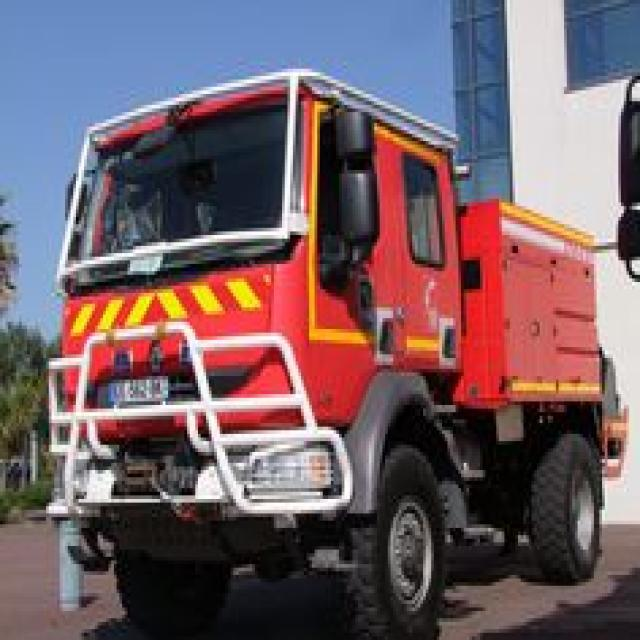emergency: (64, 66, 598, 626)
